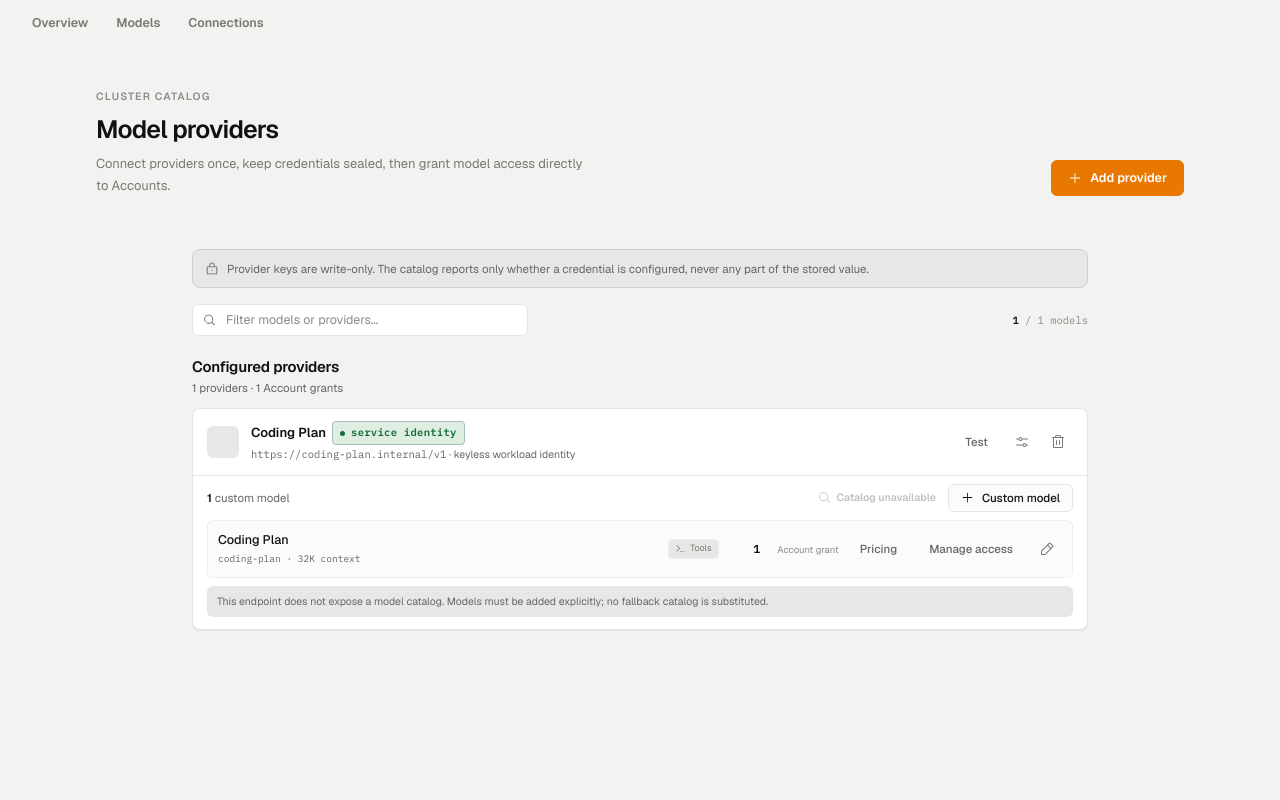
Test: ClusterModelsPage › refreshes the provider card after a failed verification probe
Click the button "Test" at (977, 442), box [952,428,1001,456]
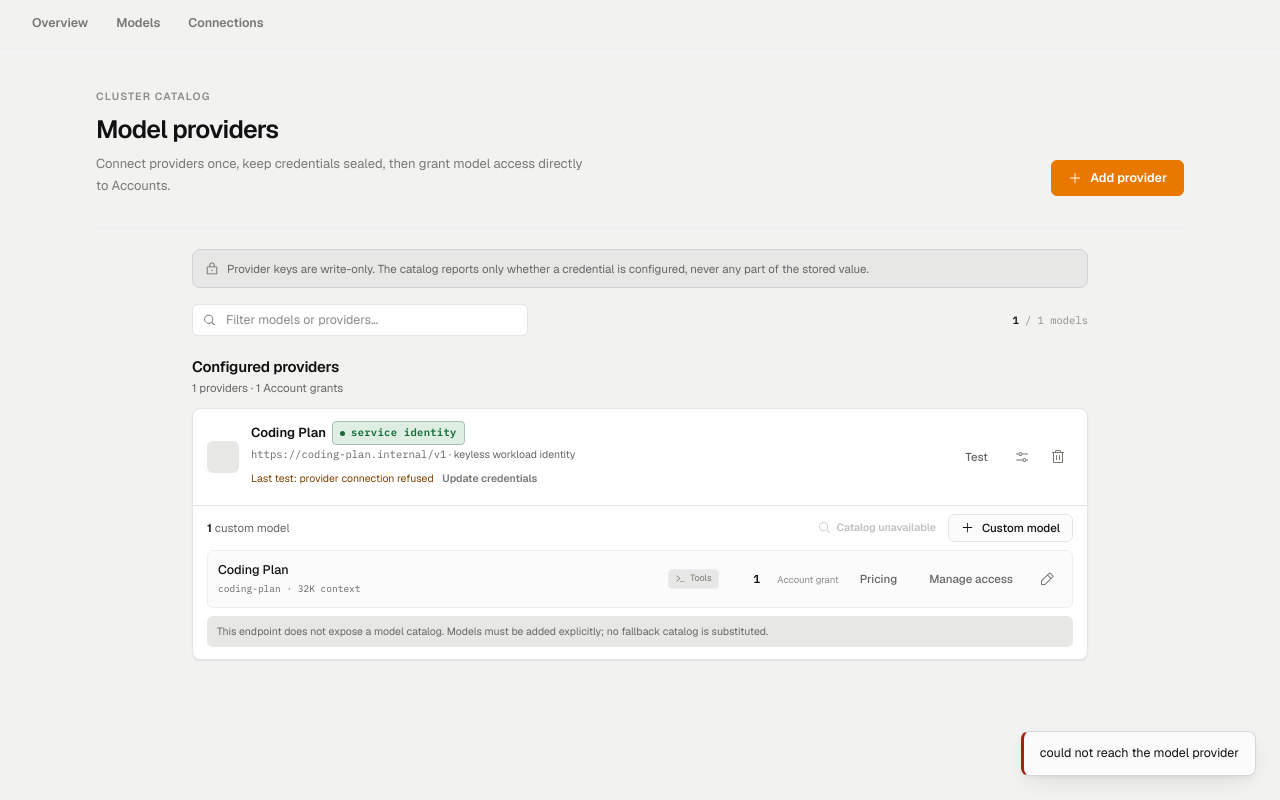
Check: the text "Last test: provider connection refused" is shown, box [251,471,434,485]
